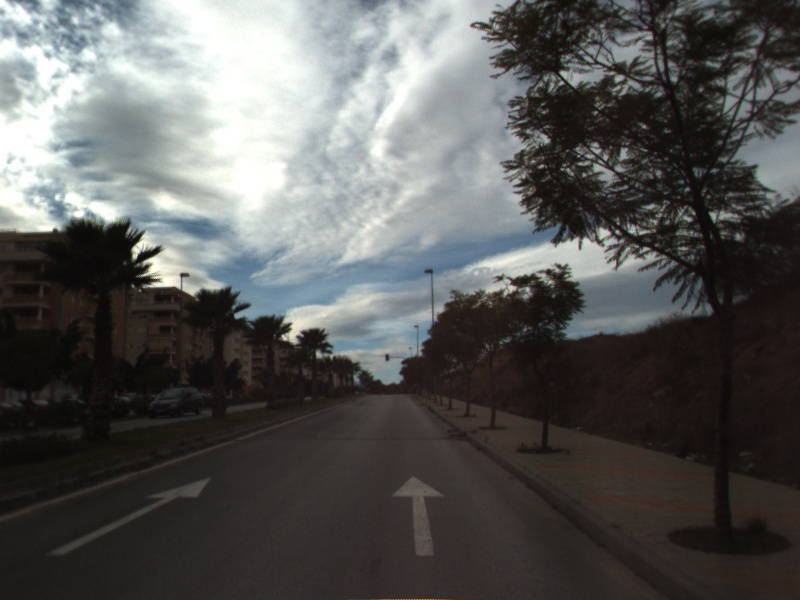STRAIGHT: (44, 475, 214, 558), (390, 473, 447, 558)
